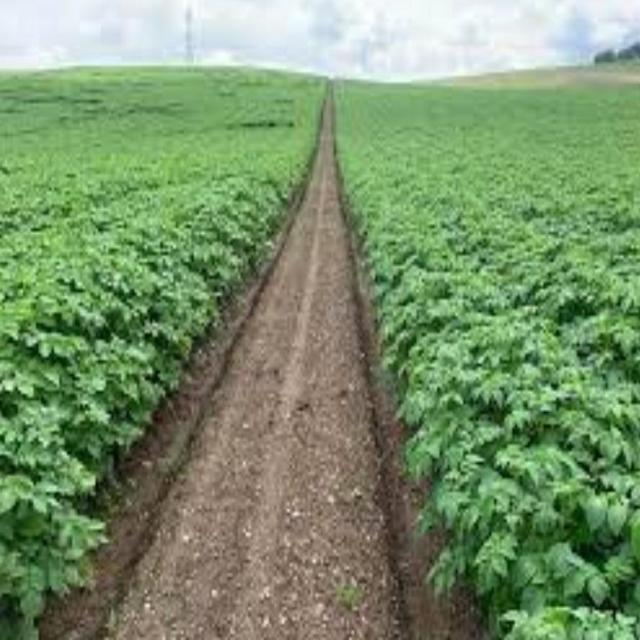row: (55, 93, 459, 640)
